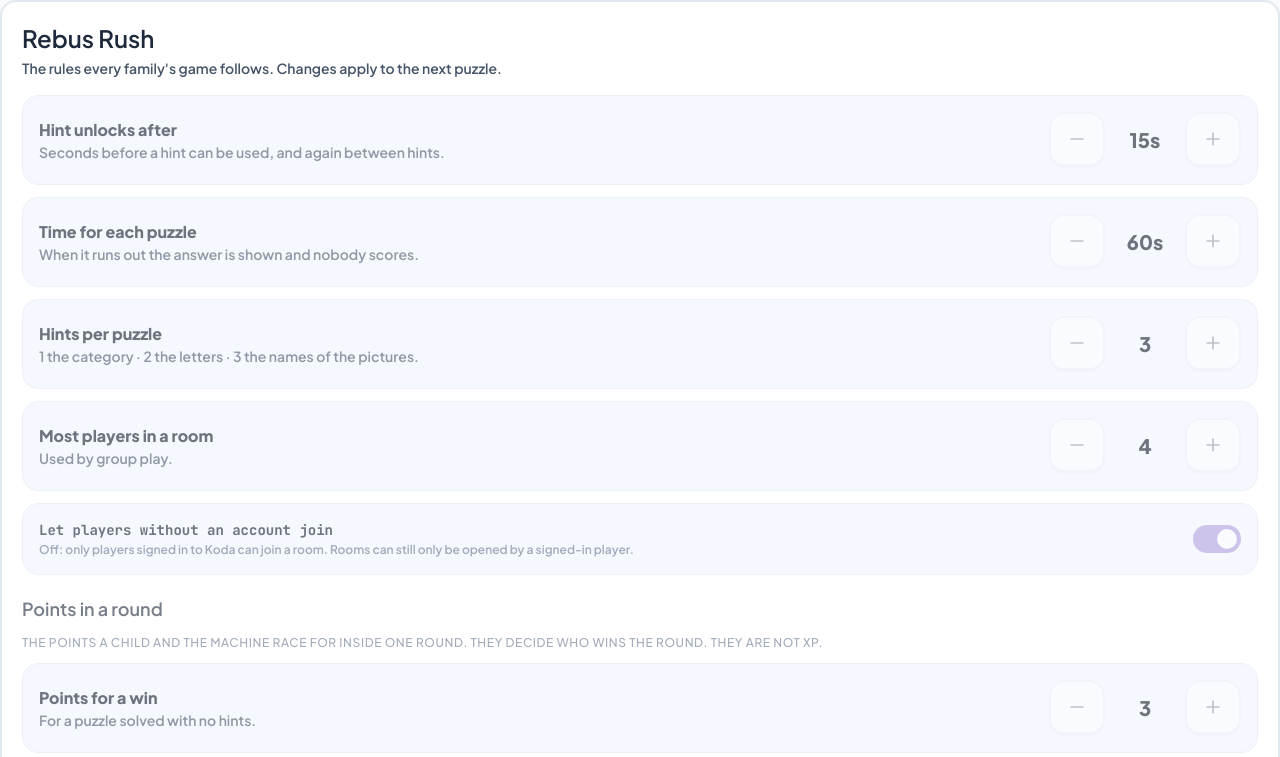
Test: the owner's panel › shows the server's message when a save is refused
What coordinates should you click on to do the following:
click the button named "Hint unlocks after +"
I would click on:
 (1213, 140)
Its box is [1185,112,1241,168].
(page scrolled)
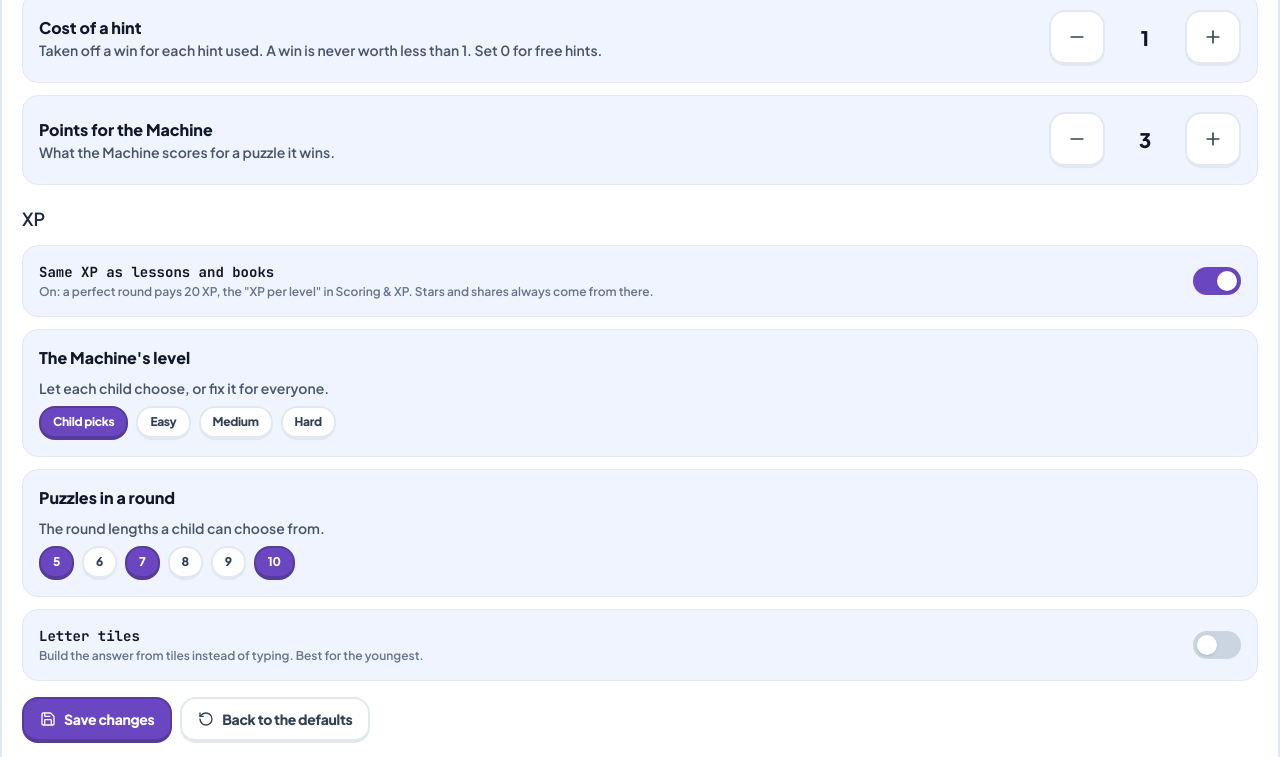
What coordinates should you click on to do the following:
click the button "Save changes"
I would click on:
 (97, 720)
Its box is [22,697,172,743].
(page scrolled)
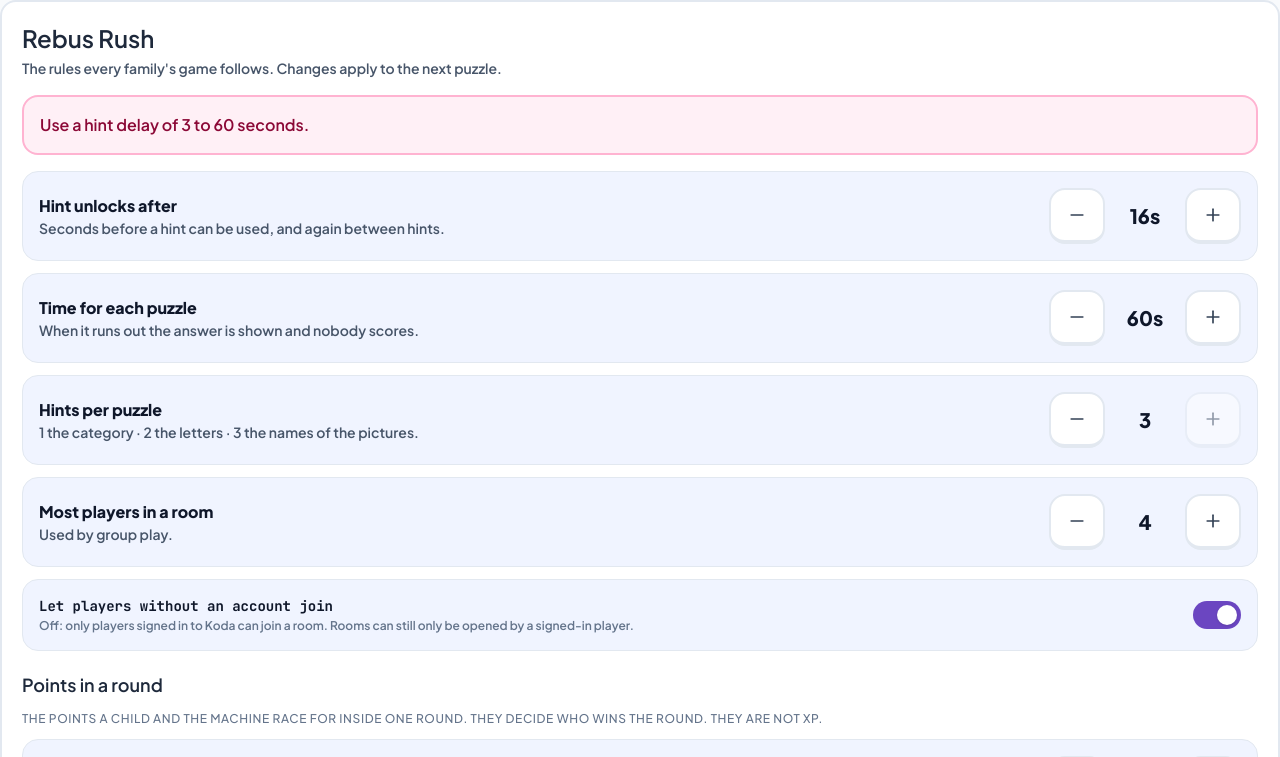
expect the text "Use a hint delay of 3 to 60 seconds." is shown: met, box [22,95,1258,155]
